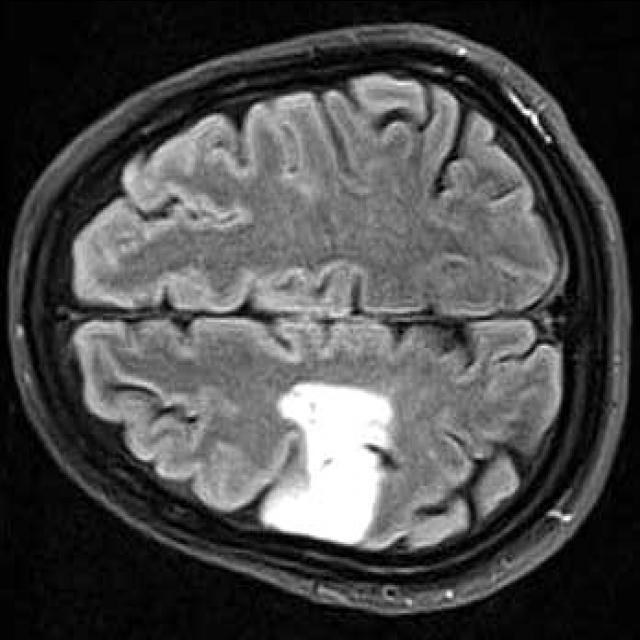tumor: (261, 379, 397, 541)
